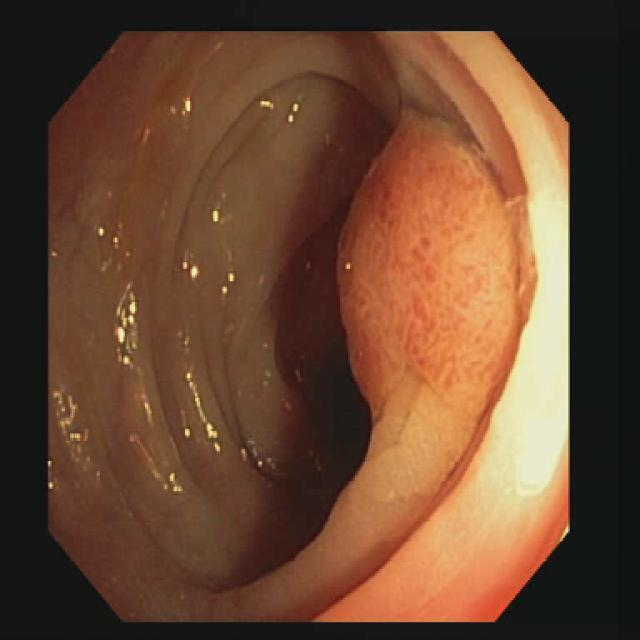tumor: (340, 116, 533, 422)
